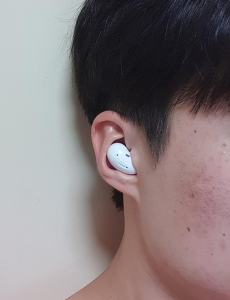earphone: (90, 111, 144, 201)
